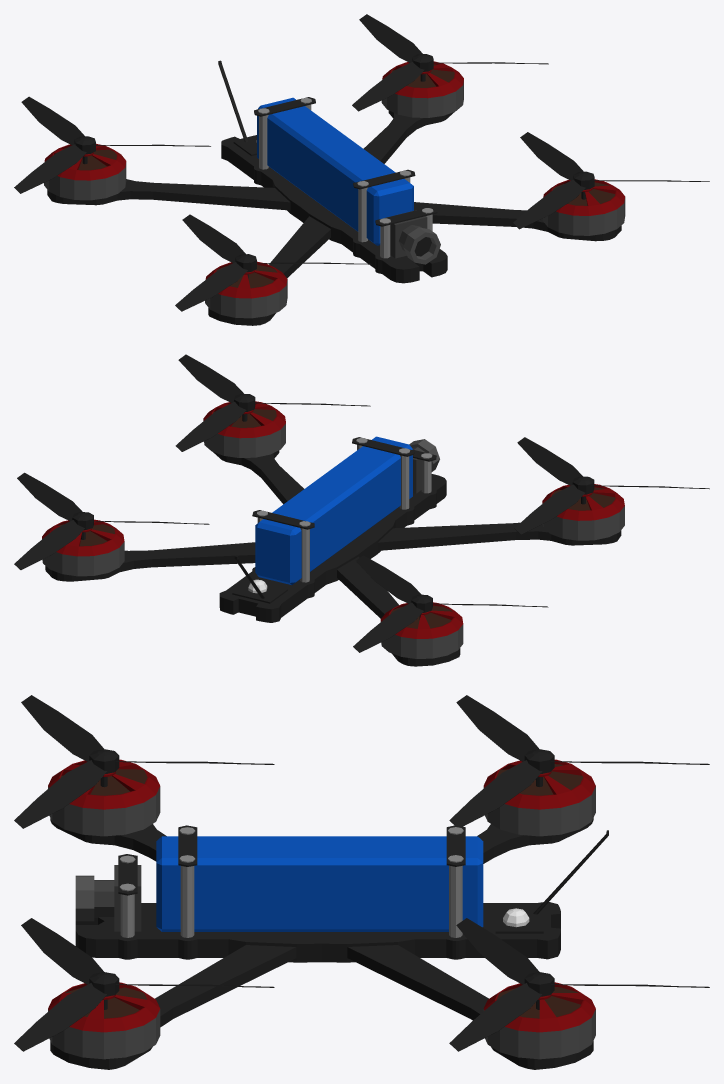
Rendered from fpvdrone.fbx.
The picture shows the model from 3 angles, top to bottom: view 1: azimuth 30°, elevation 25°; view 2: azimuth 150°, elevation 25°; view 3: azimuth 270°, elevation 25°; orthographic projection. The views are drawn at different scales.
Parts seen in each view (by area): view 1: base, fan_left_back, fan_right_back.001, fan_left_fwd, fan_right_back; view 2: base, fan_right_back.001, fan_right_back, fan_left_fwd, fan_left_back; view 3: base, fan_right_back.001, fan_right_back, fan_left_fwd, fan_left_back.
Part boxes in pixels (x1=…): base: x1=44, y1=60, x2=625, y2=325; fan_left_back: x1=352, y1=14, x2=548, y2=111; fan_right_back.001: x1=175, y1=214, x2=371, y2=311; fan_left_fwd: x1=513, y1=132, x2=709, y2=229; fan_right_back: x1=14, y1=96, x2=210, y2=193; base: x1=42, y1=401, x2=624, y2=666; fan_right_back.001: x1=514, y1=437, x2=709, y2=534; fan_right_back: x1=353, y1=555, x2=548, y2=652; fan_left_fwd: x1=175, y1=354, x2=370, y2=451; fan_left_back: x1=14, y1=472, x2=209, y2=569; base: x1=48, y1=759, x2=608, y2=1069; fan_right_back.001: x1=14, y1=695, x2=274, y2=828; fan_right_back: x1=449, y1=695, x2=709, y2=826; fan_left_fwd: x1=14, y1=918, x2=274, y2=1051; fan_left_back: x1=449, y1=918, x2=709, y2=1051.
Size of the model in its own units: 37.11 by 5.11 by 31.1.
